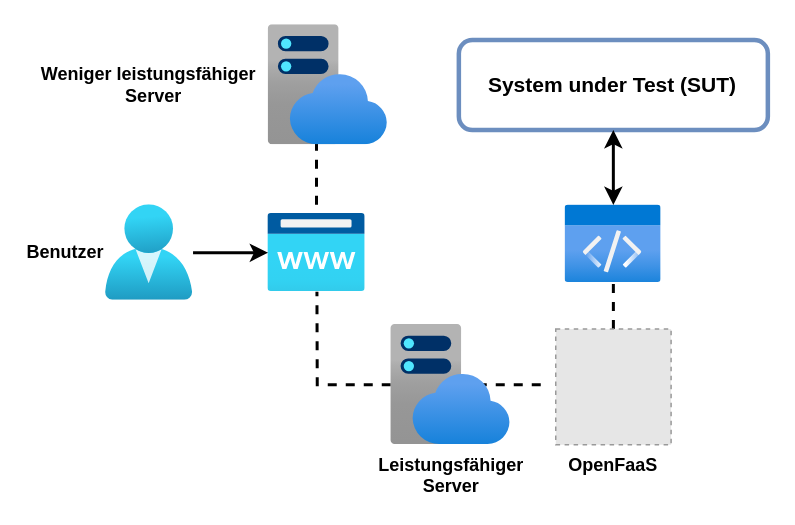
This 795x525 diagram has some shape labels left out. Grey dashed boxes stand in for pictures. Each missing label, with the box of its shape:
Load testing tool: (565, 204, 661, 282)
Web-Service: (267, 213, 365, 291)
